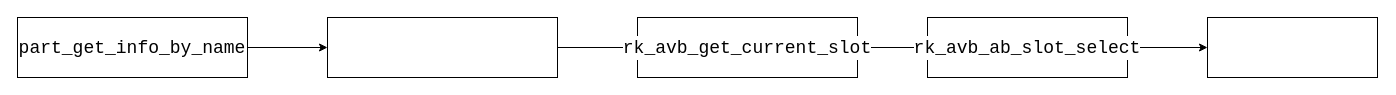
Image size: 1396x95. Some labels were removed from this diagram. Here are the shapes that lost their labels. From the top down, the centre of each, then its label:
At [442,47]: "rk_avb_append_part_slot".
At [1292,47]: "avb_ab_data_read".
